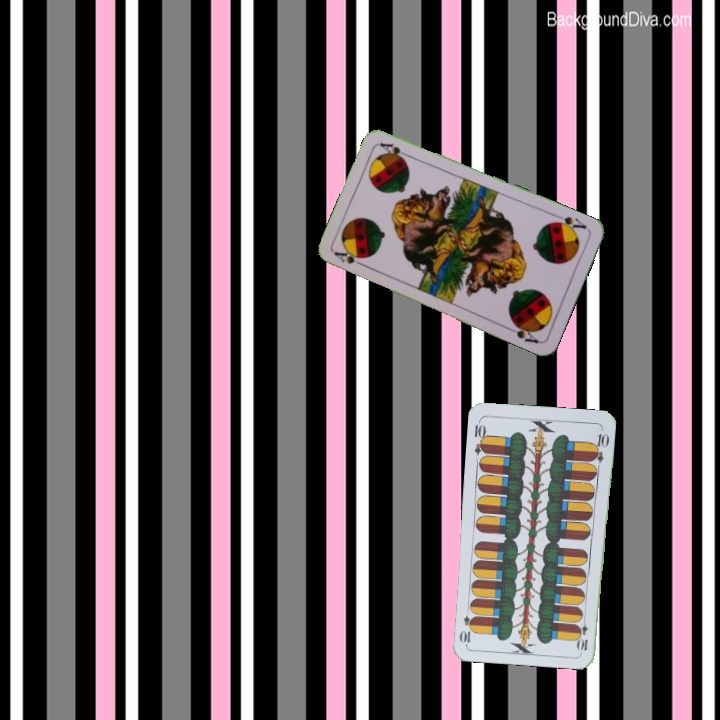E10: (470, 416, 489, 457), (576, 613, 590, 653)
SA: (549, 210, 589, 235), (330, 247, 369, 270)
